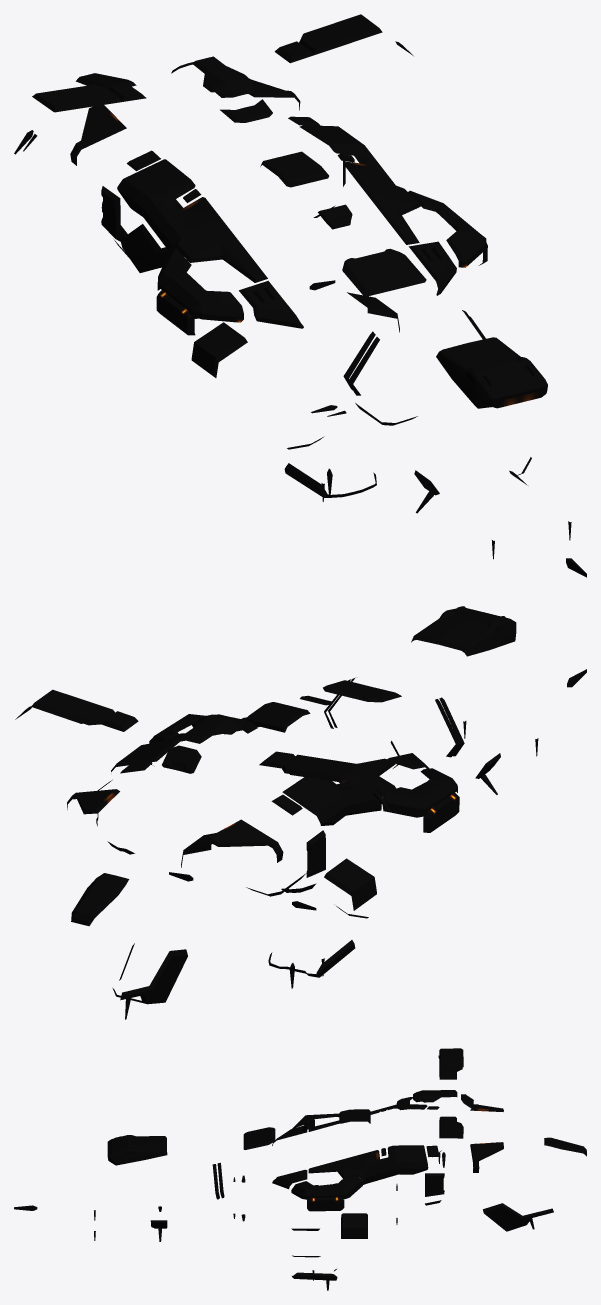
Rendered from tan_destroyer_01_t3.glb.
The picture shows the model from 3 angles, top to bottom: view 1: azimuth 30°, elevation 25°; view 2: azimuth 150°, elevation 25°; view 3: azimuth 270°, elevation 25°; orthographic projection. The views are drawn at different scales.
Parts seen in each view (by area): view 1: tan_destroyer_t3_LOD0; view 2: tan_destroyer_t3_LOD0; view 3: tan_destroyer_t3_LOD0.
Part boxes in pixels (x1=…): tan_destroyer_t3_LOD0: x1=14, y1=14, x2=586, y2=577; tan_destroyer_t3_LOD0: x1=15, y1=606, x2=586, y2=1019; tan_destroyer_t3_LOD0: x1=14, y1=1048, x2=586, y2=1290.
Size of what is drawn, in the model's own units: 3.15 by 2.68 by 7.11.
1 material, 1 textured.
